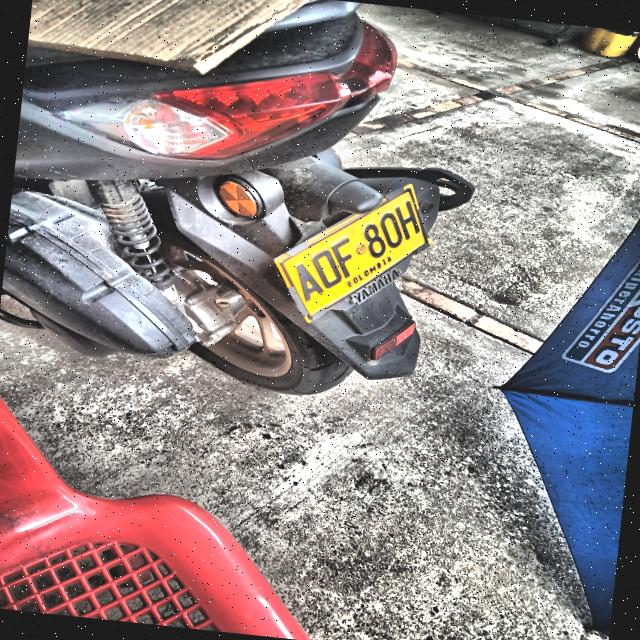0: (376, 208, 406, 252)
8: (358, 220, 390, 262)
A: (287, 260, 326, 304)
F: (328, 234, 361, 280)
H: (392, 198, 421, 242)
O: (306, 247, 344, 291)
